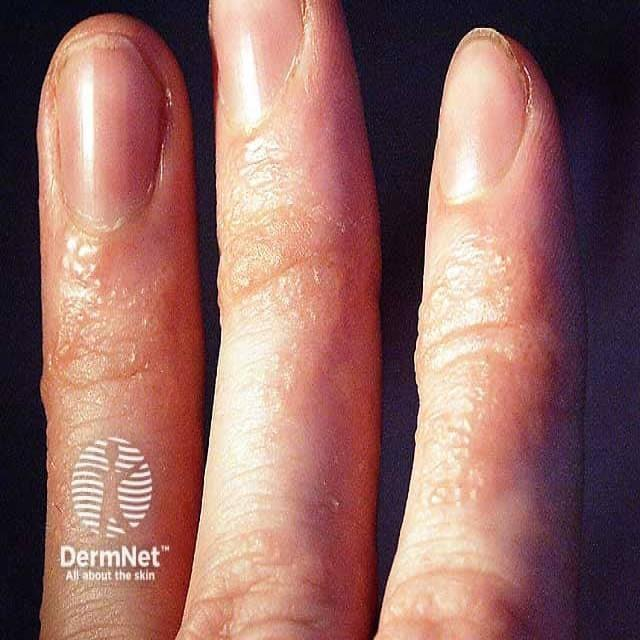Eczema: (413, 218, 561, 500), (41, 174, 166, 402), (222, 144, 356, 306)
